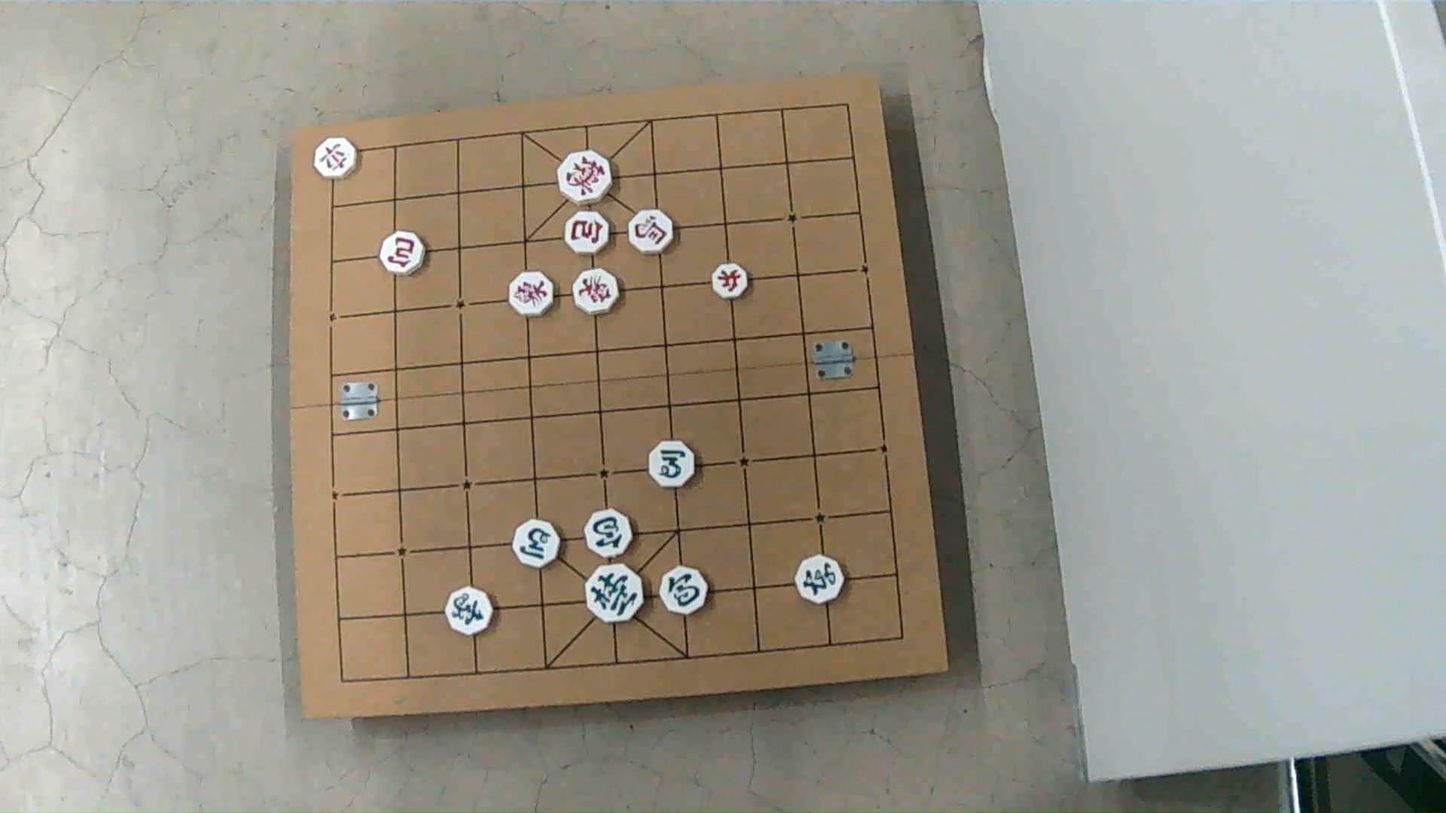cha_green: (795, 556, 843, 604)
cha_red: (314, 139, 356, 180)
jol_red: (712, 263, 748, 298)
ma_green: (647, 441, 695, 489), (514, 521, 562, 568)
ma_red: (627, 211, 674, 254)
po_green: (585, 507, 633, 556), (657, 565, 705, 612)
po_red: (380, 230, 426, 274), (565, 212, 609, 255)
sang_green: (447, 589, 494, 636)
sang_red: (573, 268, 620, 313), (510, 271, 555, 316)
wang_green: (585, 565, 644, 624)
wang_red: (557, 151, 611, 202)
